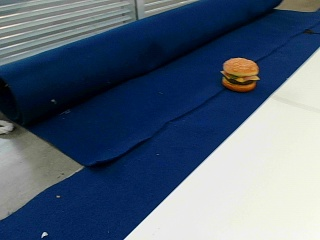burger: (220, 55, 258, 90)
